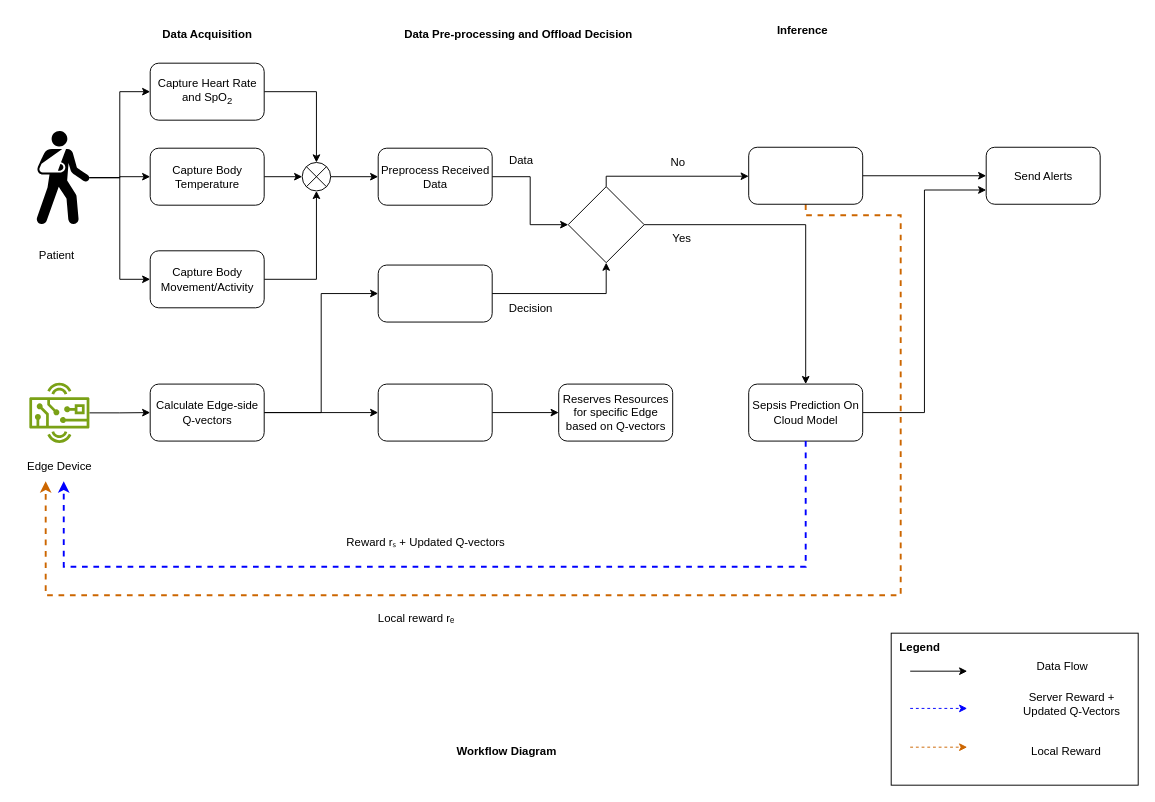
Some shapes in this 1155 by 802 pixel diagram are drawn without their labels. Each missing label, with the centre of its shape:
Offload?: (605,224)
Offloading Decision: (434,293)
Sepsis Prediction On Local Model: (805,175)
Server aggregates Q-vectors from Edge devices: (434,412)
